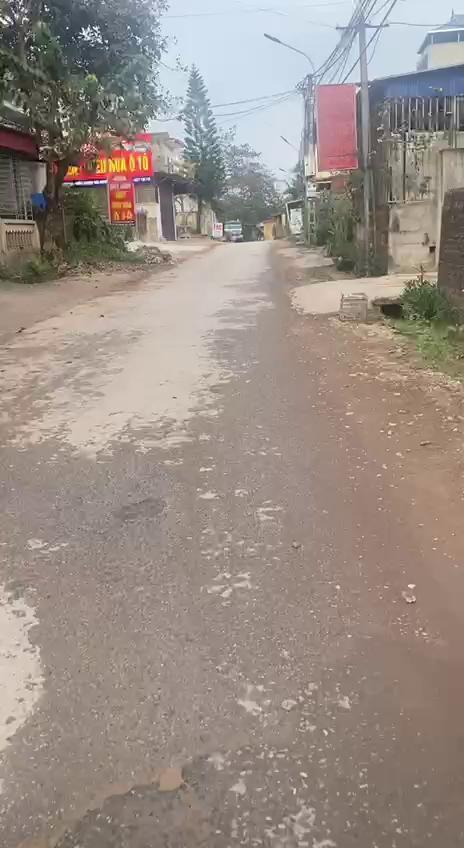pothole: (9, 746, 202, 848)
